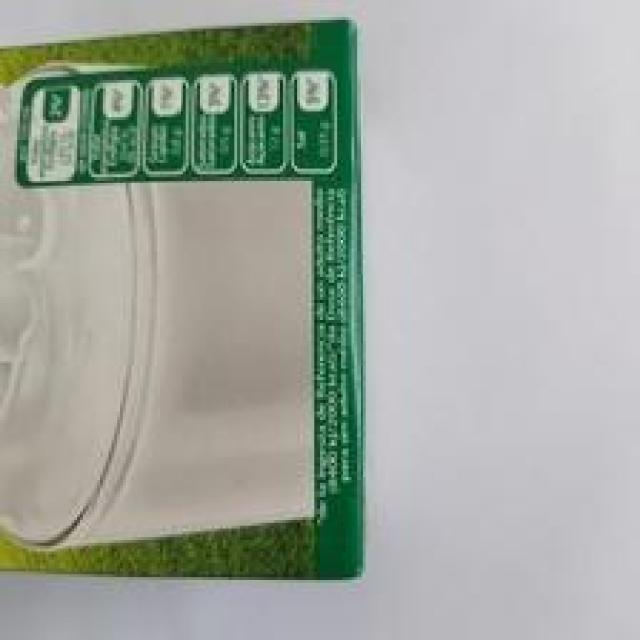Carton: (0, 17, 366, 583)
